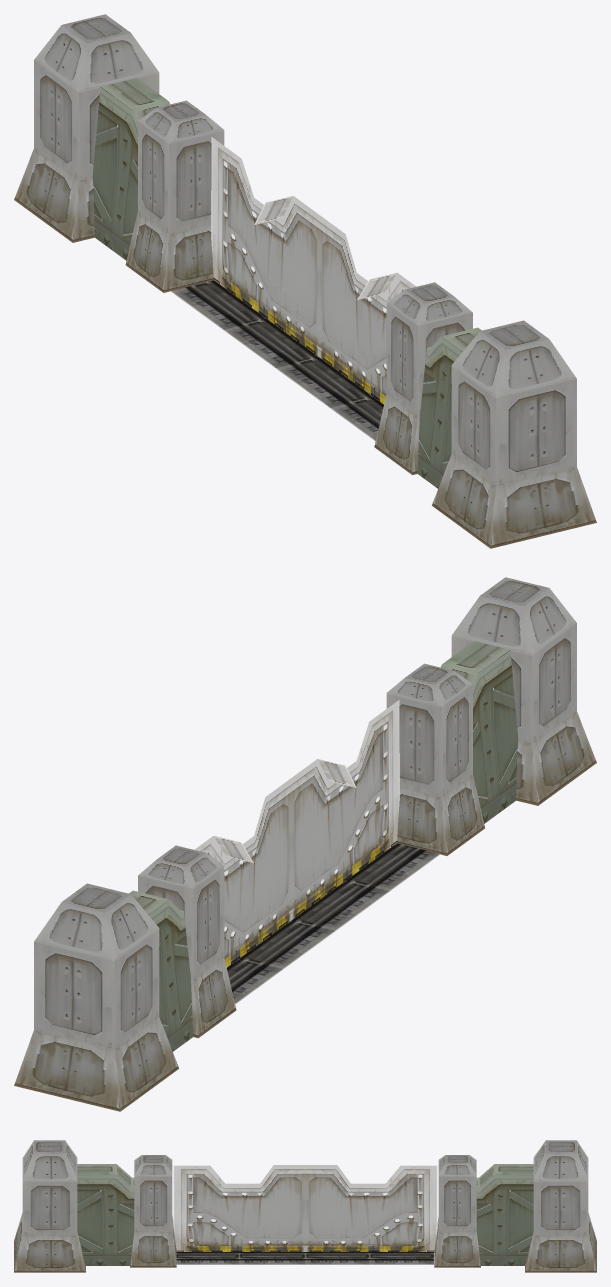
File: l_mediumgate_hdtex.glb
3 views of the same model, one above another, from view 1: azimuth 30°, elevation 25°; view 2: azimuth 150°, elevation 25°; view 3: azimuth 270°, elevation 25° (orthographic). The views are drawn at different scales.
Parts seen in each view (by area): view 1: L_MediumGate, L_MediumGateDoor, Gatefloor_PAB; view 2: L_MediumGate, L_MediumGateDoor, Gatefloor_PAB; view 3: L_MediumGate, L_MediumGateDoor, Gatefloor_PAB.
Part boxes in pixels (x1=…): L_MediumGate: x1=14, y1=14, x2=596, y2=548; L_MediumGateDoor: x1=211, y1=137, x2=416, y2=404; Gatefloor_PAB: x1=170, y1=280, x2=383, y2=441; L_MediumGate: x1=14, y1=577, x2=596, y2=1111; L_MediumGateDoor: x1=194, y1=700, x2=399, y2=967; Gatefloor_PAB: x1=227, y1=843, x2=440, y2=1004; L_MediumGate: x1=14, y1=1140, x2=596, y2=1272; L_MediumGateDoor: x1=173, y1=1165, x2=437, y2=1252; Gatefloor_PAB: x1=176, y1=1252, x2=433, y2=1264.
Size of the model in its own units: 7.52 by 12.17 by 58.39.
3 materials, 3 textured.
